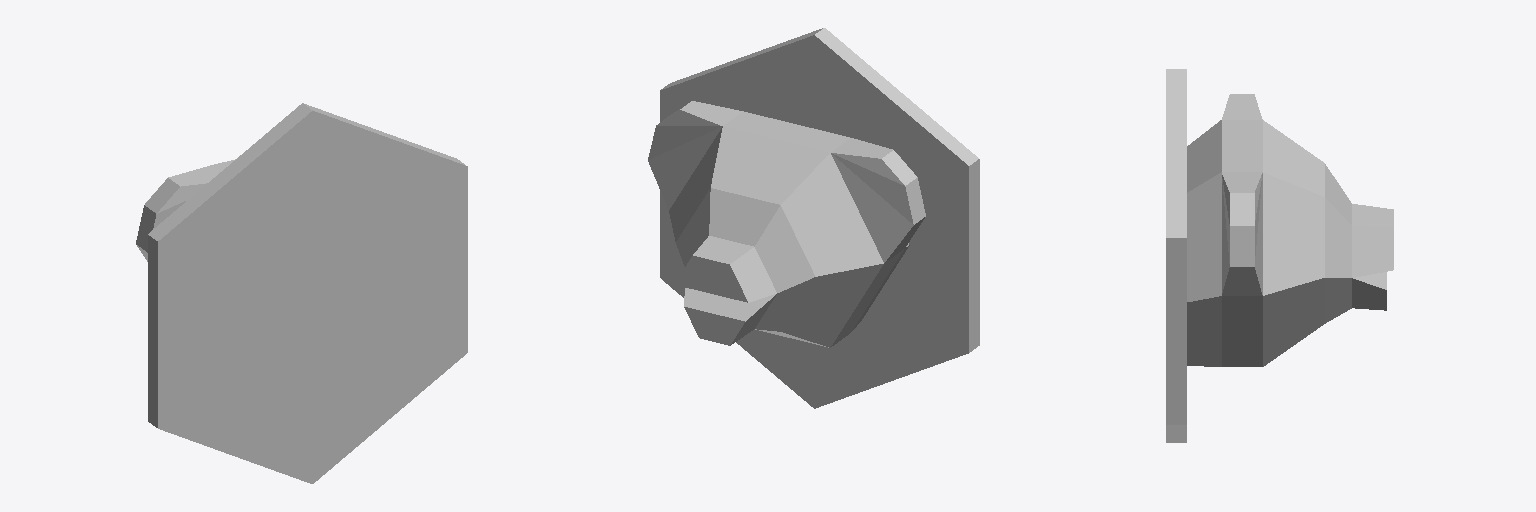
Rendered from bear face.obj.
3 views of the same model, side by side, from view 1: azimuth 30°, elevation 25°; view 2: azimuth 150°, elevation 25°; view 3: azimuth 270°, elevation 25° (orthographic).
Parts seen in each view (by area): view 1: bear; view 2: bear; view 3: bear.
Part boxes in pixels (bbox=[...]): bear: bbox=[136, 103, 467, 483]; bear: bbox=[648, 28, 979, 408]; bear: bbox=[1166, 69, 1393, 442].
Bounding box in the file's own units: 0.3897 × 0.45 × 0.2475.